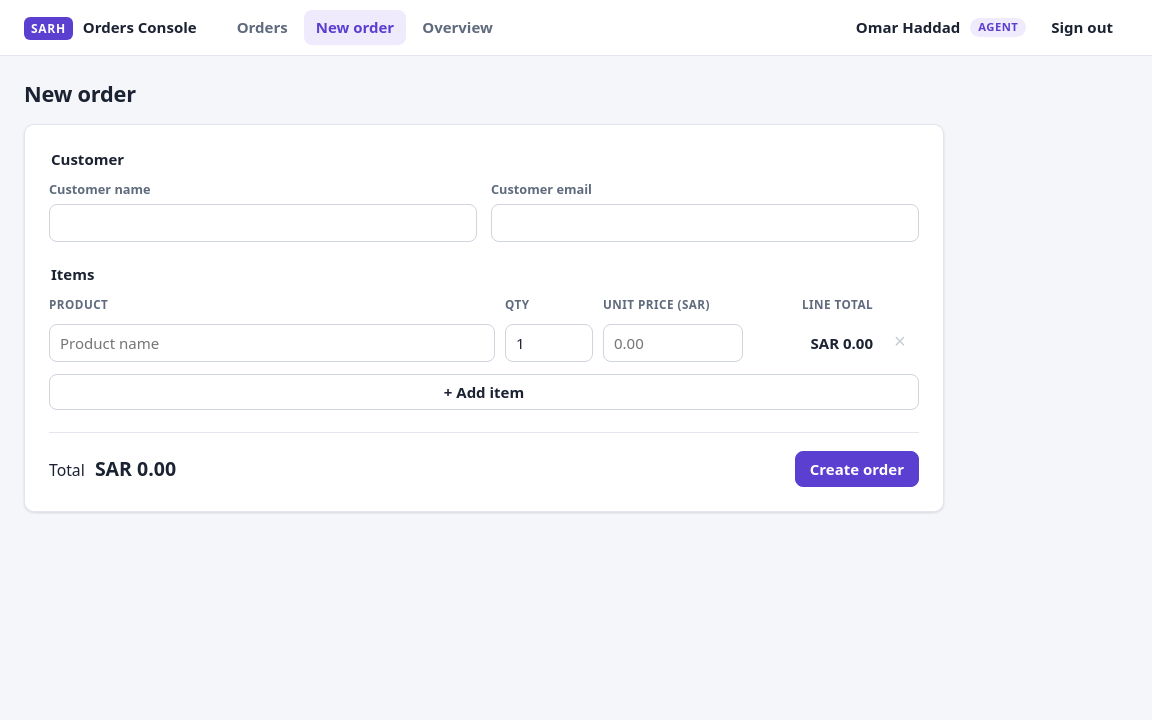
Test: CreateOrderPage › puts server-side validation messages next to the right fields
expect the heading "New order" is shown: met, box [24,78,136,110]
Type "  Huda Al-Qahtani " into the field labelled "Customer name" at (263, 223), box [49,204,477,242]
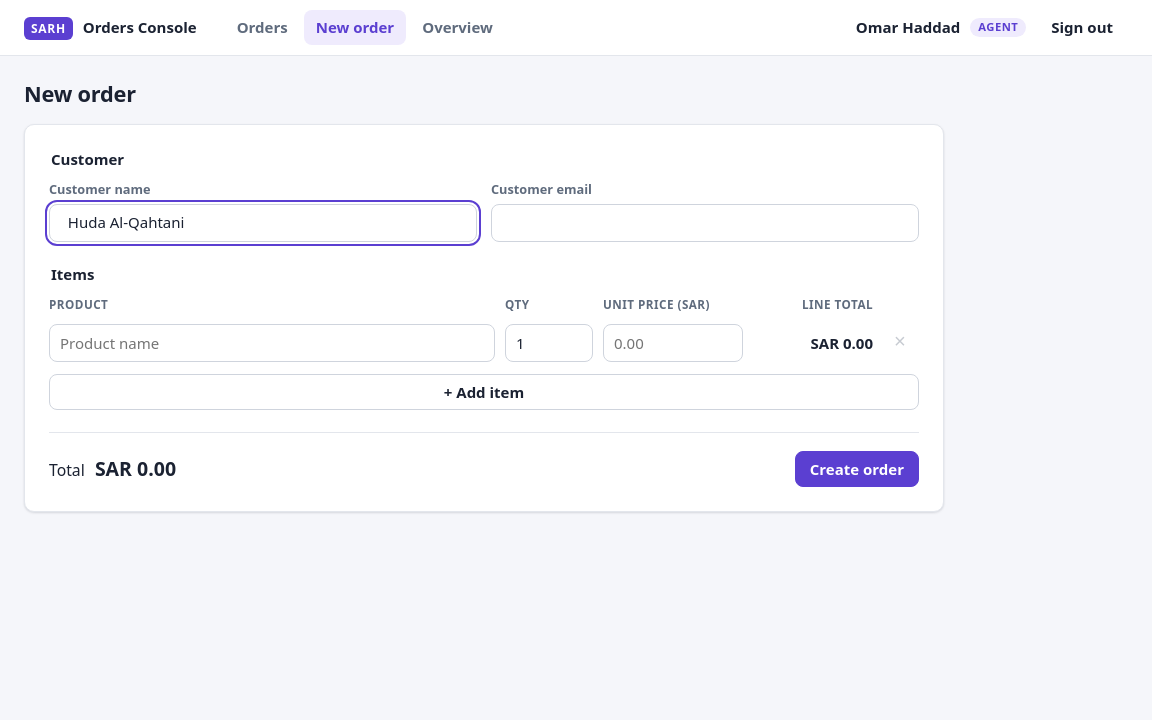
Type "Huda.Q@Example.com" into the field labelled "Customer email" at (705, 223), box [491,204,919,242]
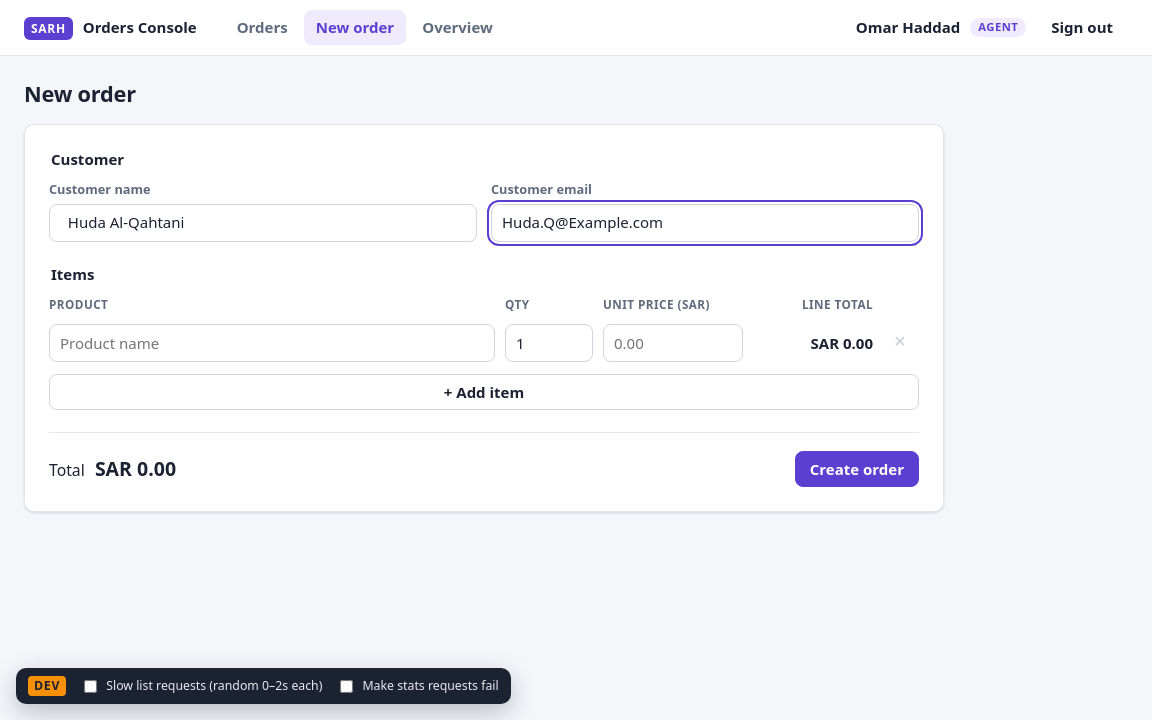
Type "Sukkari Dates Gift Box" into the field named "Product 1" at (272, 344), box [49,324,495,362]
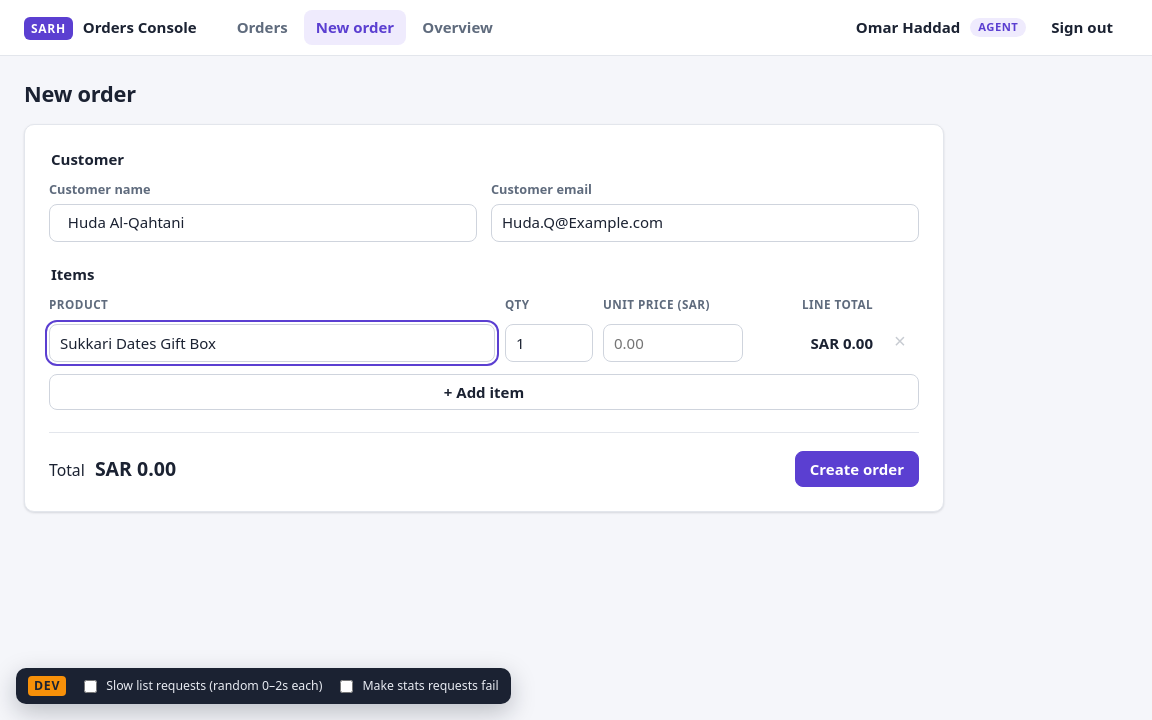
Replace the text in the number field named "Quantity 1" with "2" at (549, 344), box [505,324,593,362]
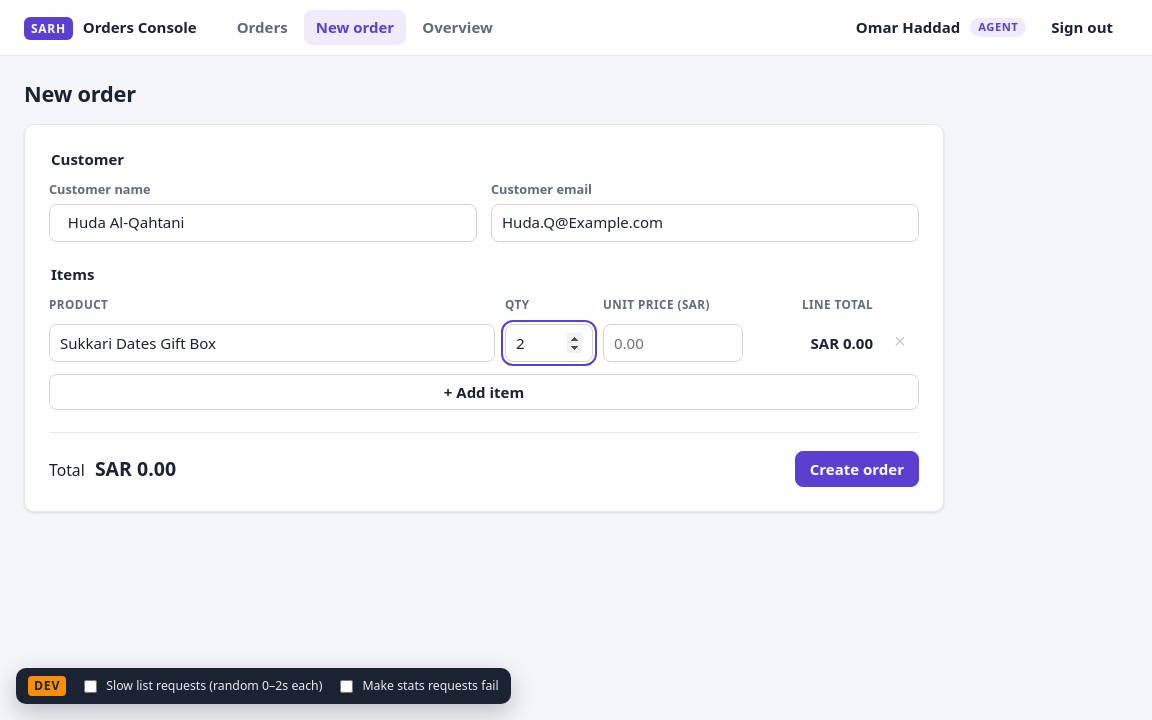
Type "95" into the field named "Unit price 1" at (673, 344), box [603,324,743,362]
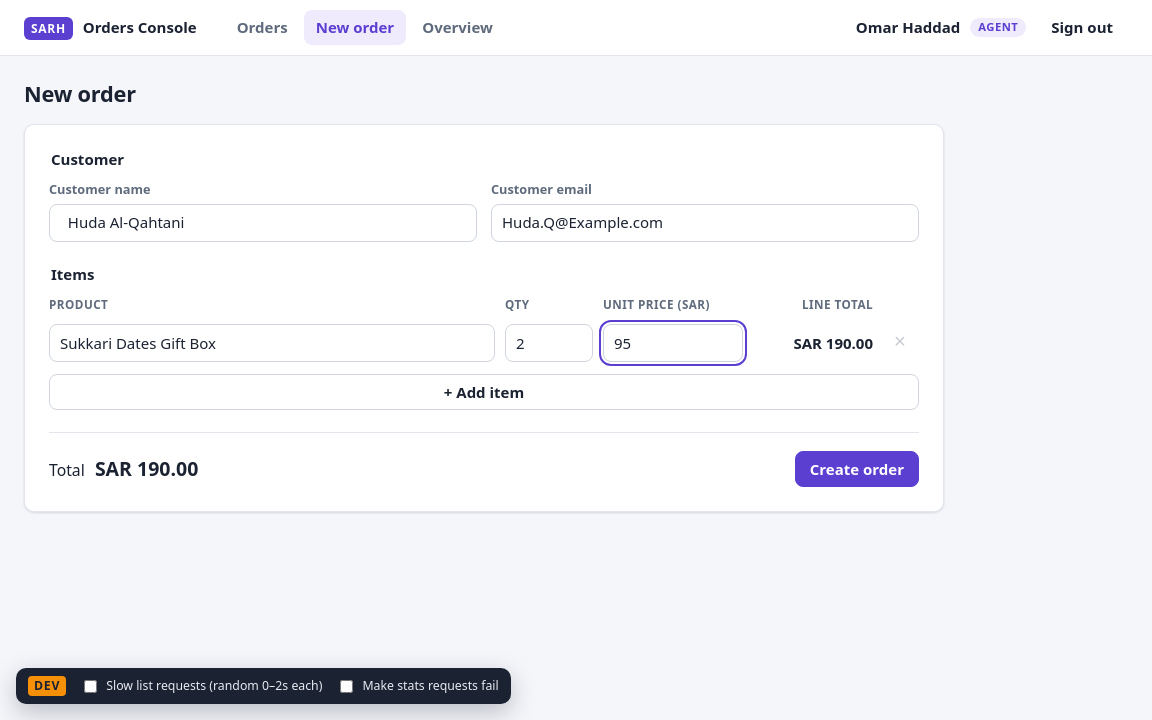
Click the button "Create order" at (857, 470), box [795,452,919,488]
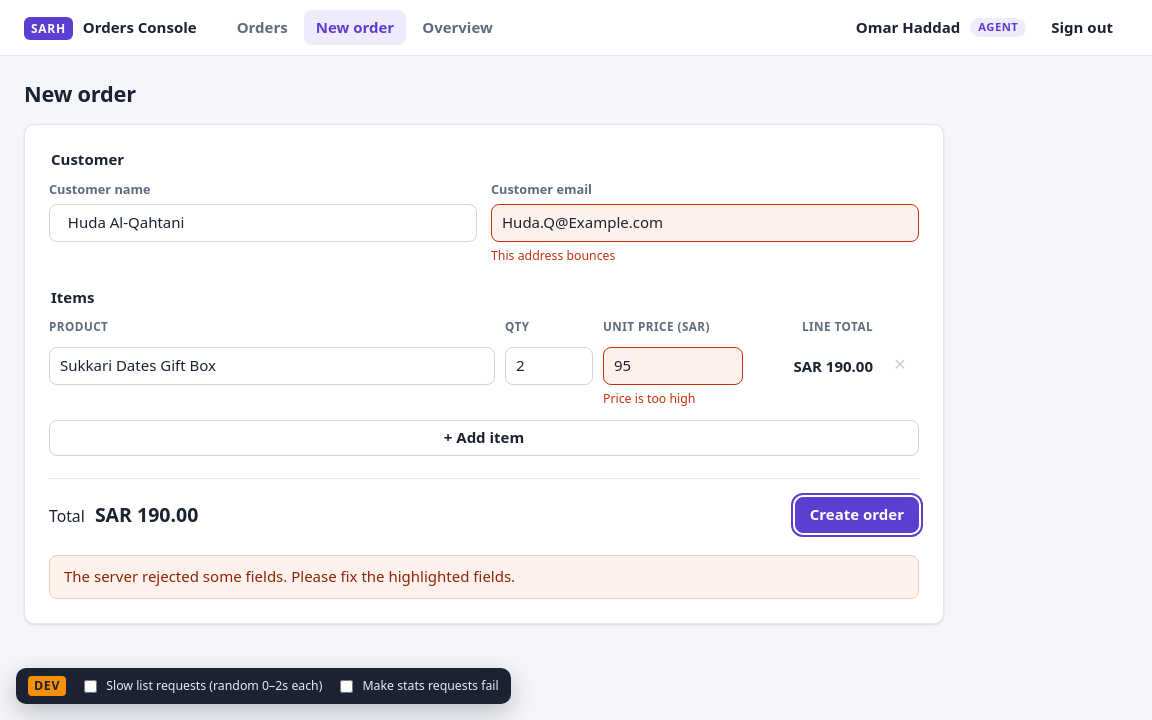
expect the text "This address bounces" is shown: met, box [491,247,615,264]
expect the text "Price is too high" is shown: met, box [603,390,695,407]
